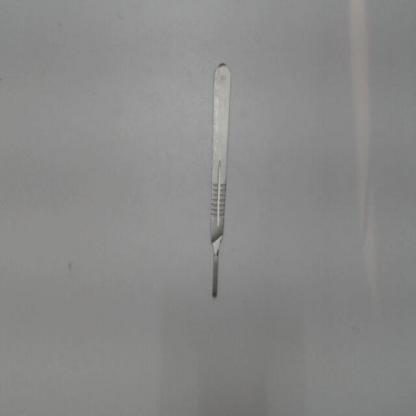No.4 BP Handle: (198, 55, 235, 304)
